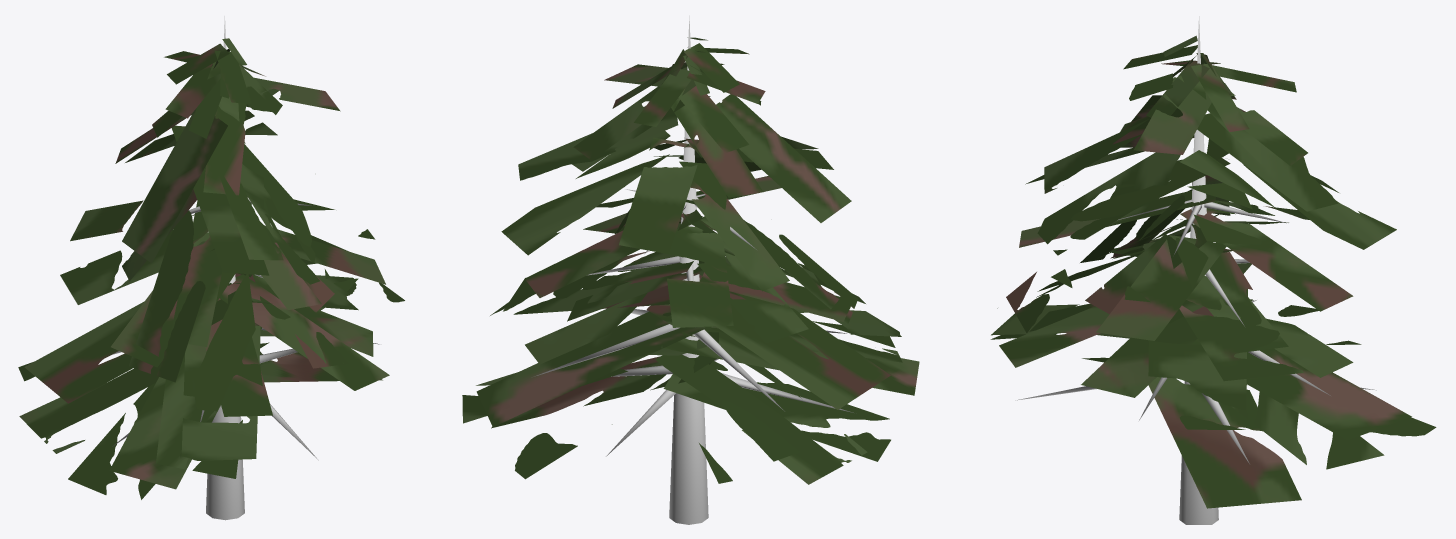
The model's file is sapin.FBX.
The picture shows the model from 3 angles, left to right: view 1: azimuth 30°, elevation 25°; view 2: azimuth 150°, elevation 25°; view 3: azimuth 270°, elevation 25°; orthographic projection.
Parts seen in each view (by area): view 1: saping; view 2: saping; view 3: saping.
Part boxes in pixels (box(x1,y1,x2,y2)): saping: box(18, 16, 404, 520); saping: box(462, 15, 919, 524); saping: box(990, 16, 1436, 524).
Size of the model in its own units: 59.19 by 79.71 by 70.73.
